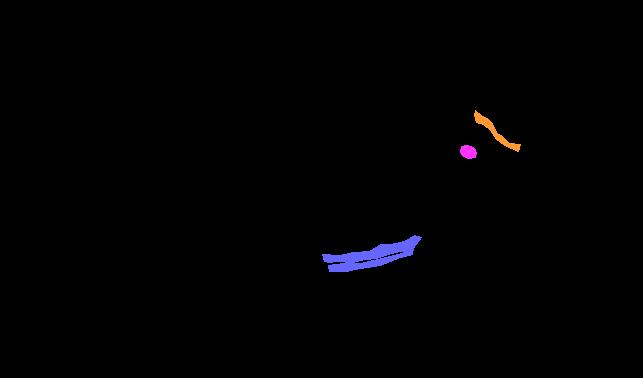Dent: (460, 145, 476, 158)
Paint chip: (474, 110, 520, 151)
Scratch: (322, 235, 421, 271)
